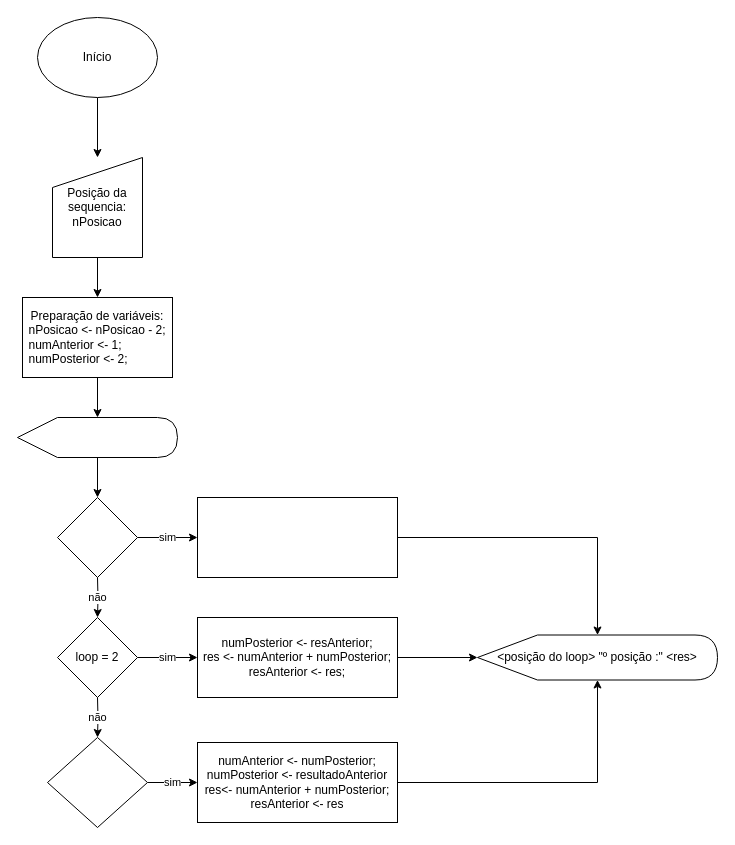
Image size: 735x845. Some labels were removed from this diagram. Each missing label, with the centre of its shape:
1º e 2º posição da sequência: point (97, 437)
loop <> 1 e loop <> 2: point (97, 782)
loop = 1: point (97, 537)
res <- numAnterior + numPosterior; resAnterior <- res;: point (297, 537)
